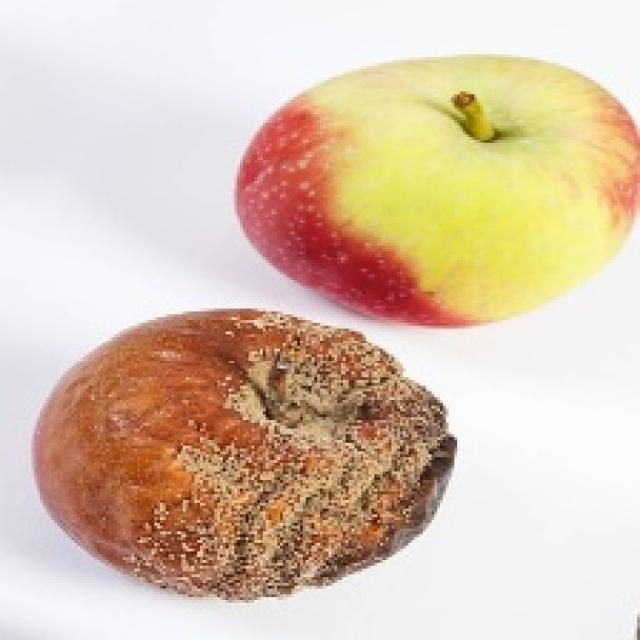rotten_apple: (40, 312, 448, 596)
